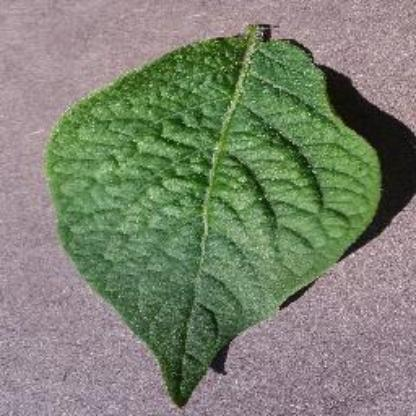Healthy-plant: (44, 20, 394, 408)
